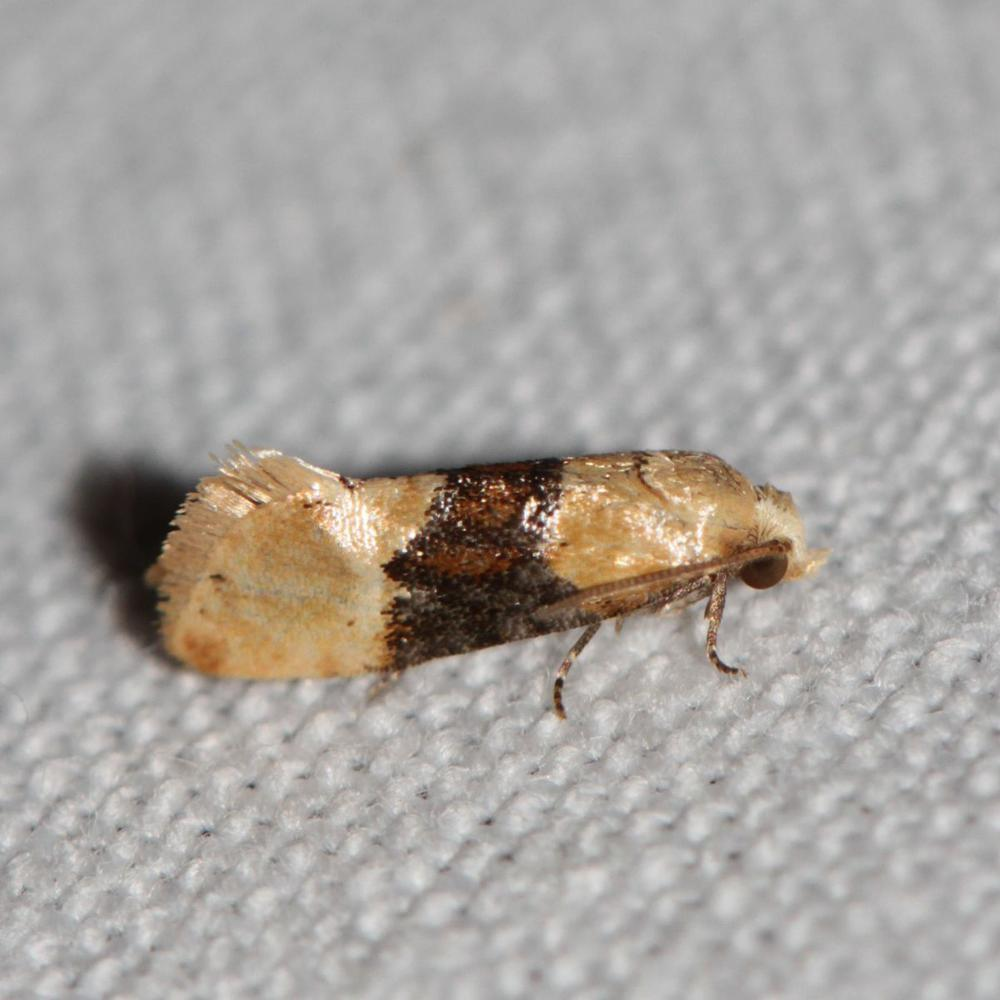Eupoecilia Ambiguella: (141, 437, 832, 723)
